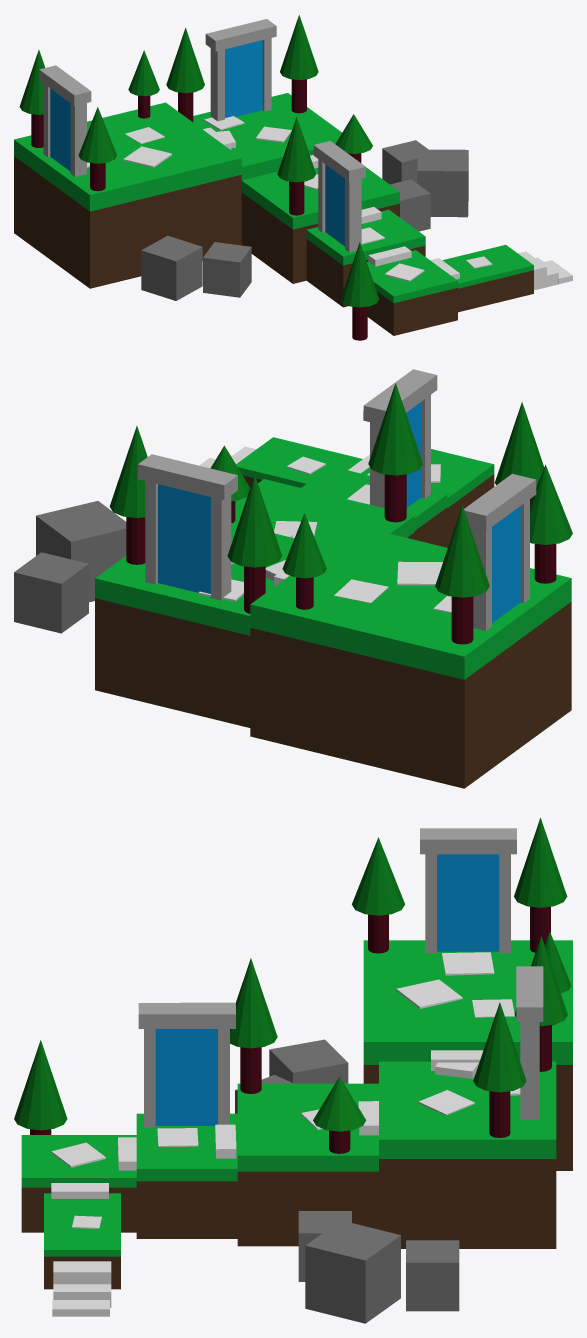
Rendered from environment.glb.
The picture shows the model from 3 angles, top to bottom: view 1: azimuth 30°, elevation 25°; view 2: azimuth 150°, elevation 25°; view 3: azimuth 270°, elevation 25°; orthographic projection. The views are drawn at different scales.
Visible parts, largest first — view 1: terrain, terrain.002, terrain.004, terrain.001, terrain.003, terrain.005, rock.004, rock.002, portals, rock.003, three.006, three.005 (+24 smaller); view 2: terrain, terrain.001, portals, terrain.002, rock.001, rock.002, three.001, three.005, three.002, terrain.005, terrain.003, three (+18 smaller); view 3: terrain.001, terrain.002, terrain, terrain.003, rock.002, terrain.004, portals.001, portals.002, terrain.005, rock.001, three.004, three.005 (+30 smaller).
Boxes of the visible parts, x1,y1,x2,y2 form: terrain: (14,102,241,288); terrain.002: (241,167,399,283); terrain.004: (367,250,457,335); terrain.001: (193,93,341,180); terrain.003: (306,209,425,307); terrain.005: (442,244,533,312); rock.004: (141,235,202,300); rock.002: (417,149,468,217); portals: (225,40,262,117); rock.003: (203,242,251,297); three.006: (340,242,379,340); three.005: (277,117,315,215); terrain: (250,526,571,788); terrain.001: (95,523,328,727); portals: (158,484,210,593); terrain.002: (233,479,414,546); rock.001: (14,552,88,633); rock.002: (36,501,126,602); three.001: (435,505,489,644); three.005: (368,383,422,522); three.002: (227,475,281,613); terrain.005: (236,437,362,487); terrain.003: (301,466,447,547); three: (530,464,572,583); terrain.001: (379,1061,556,1248); terrain.002: (237,1083,378,1246); terrain: (363,940,572,1170); terrain.003: (136,1113,237,1238); rock.002: (305,1220,400,1323); terrain.004: (21,1135,136,1232); portals.001: (437,854,499,951); portals.002: (155,1029,217,1125); terrain.005: (44,1193,120,1289); rock.001: (406,1240,459,1311); three.004: (473,1002,526,1137); three.005: (230,958,277,1093).
Size of what is drawn, in the model's own units: 22.74 by 10.75 by 20.89.
